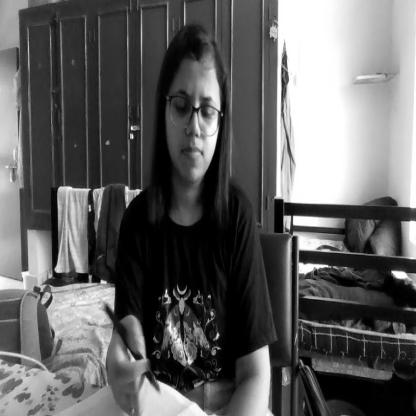Normal: (160, 26, 226, 191)
